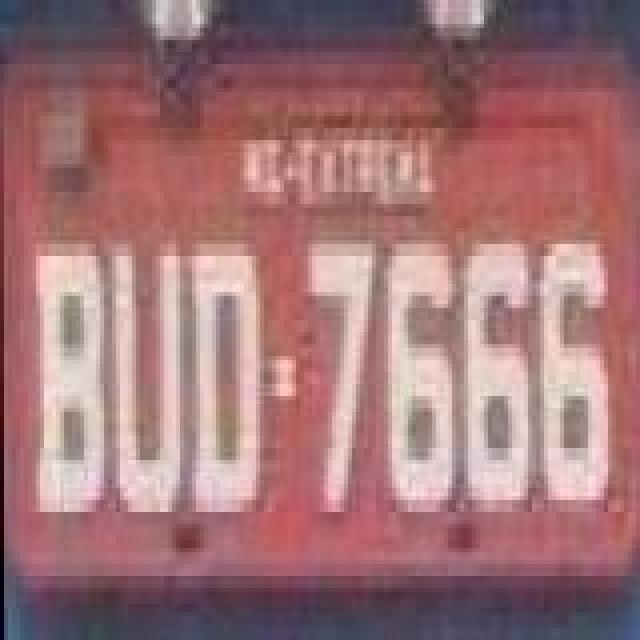6: (462, 234, 534, 518), (538, 234, 610, 518), (382, 250, 454, 518)
7: (306, 242, 378, 526)
B: (34, 242, 106, 526)
D: (188, 250, 264, 534)
U: (108, 242, 184, 526)
